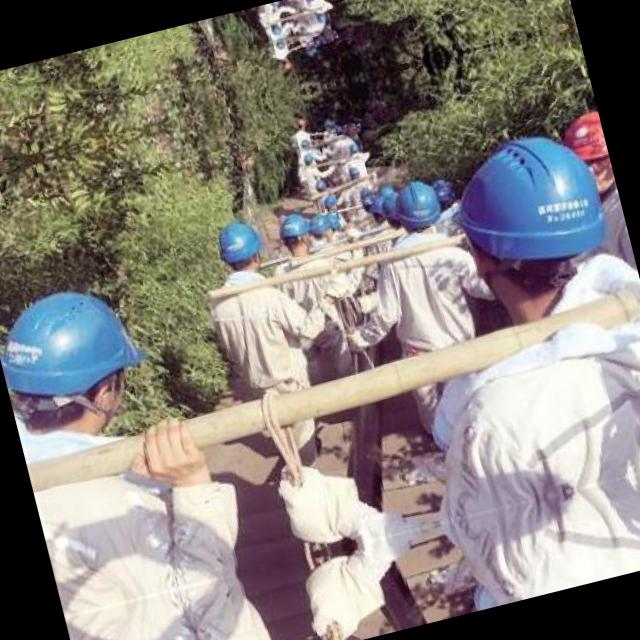helmet: (432, 110, 626, 321), (0, 261, 169, 457), (559, 104, 610, 178), (211, 212, 268, 278), (388, 173, 444, 234), (272, 206, 312, 257), (376, 187, 407, 227), (302, 207, 332, 244)
